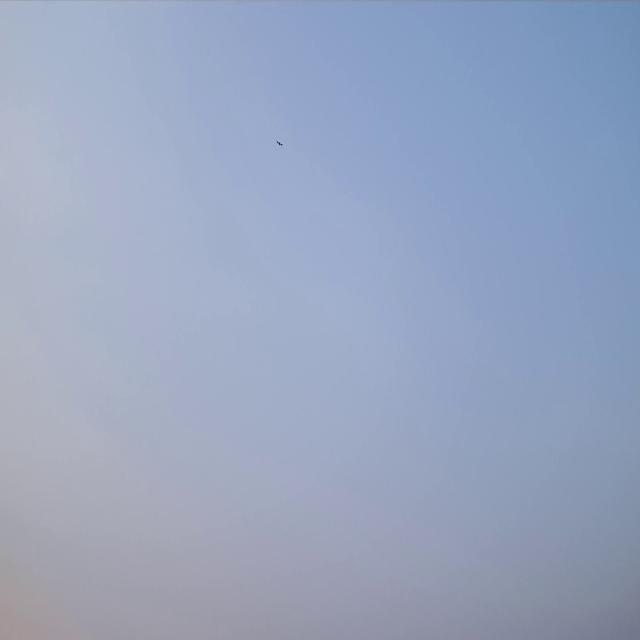UAV: (276, 140, 283, 147)
